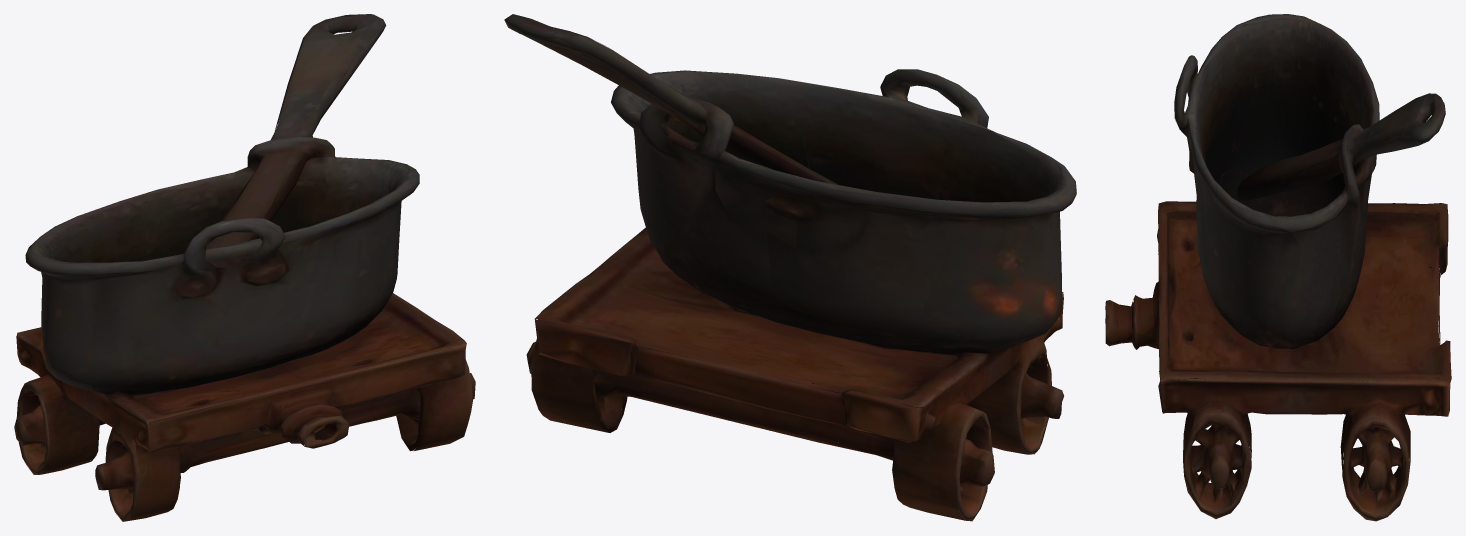
File: carro_vaciador.glb
3 views of the same model, side by side, from view 1: azimuth 30°, elevation 25°; view 2: azimuth 150°, elevation 25°; view 3: azimuth 270°, elevation 25° (orthographic). The views are drawn at different scales.
Visible parts, largest first — view 1: geometry_0; view 2: geometry_0; view 3: geometry_0.
Part boxes in pixels (bbox=[...]): geometry_0: bbox=[14, 14, 475, 521]; geometry_0: bbox=[504, 14, 1076, 521]; geometry_0: bbox=[1105, 14, 1451, 521].
Size of the model in its own units: 2.2 by 1.8 by 1.4.
Materials: 1 (1 with a texture image).
